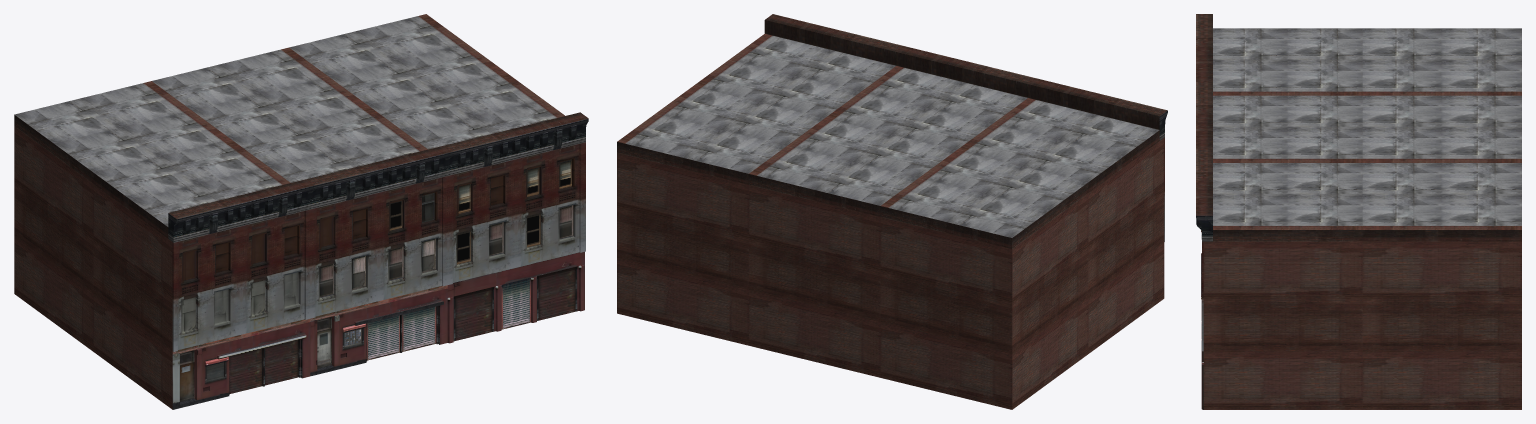
The model's file is Building1.glb.
3 renders of one model, left to right at view 1: azimuth 30°, elevation 25°; view 2: azimuth 150°, elevation 25°; view 3: azimuth 270°, elevation 25°, orthographic. The views are drawn at different scales.
Parts seen in each view (by area): view 1: Brownstone_FlatFacade_6_B_Brownstone_Facade_Flr_1_0; view 2: Brownstone_FlatFacade_6_B_Brownstone_Facade_Flr_1_0; view 3: Brownstone_FlatFacade_6_B_Brownstone_Facade_Flr_1_0.
Part boxes in pixels (left/top/right/bottom): Brownstone_FlatFacade_6_B_Brownstone_Facade_Flr_1_0: left=14, top=14, right=588, bottom=409; Brownstone_FlatFacade_6_B_Brownstone_Facade_Flr_1_0: left=617, top=14, right=1167, bottom=409; Brownstone_FlatFacade_6_B_Brownstone_Facade_Flr_1_0: left=1196, top=14, right=1521, bottom=409.
Size of the model in its own units: 30 by 13.47 by 20.48.
2 materials, 2 textured.
